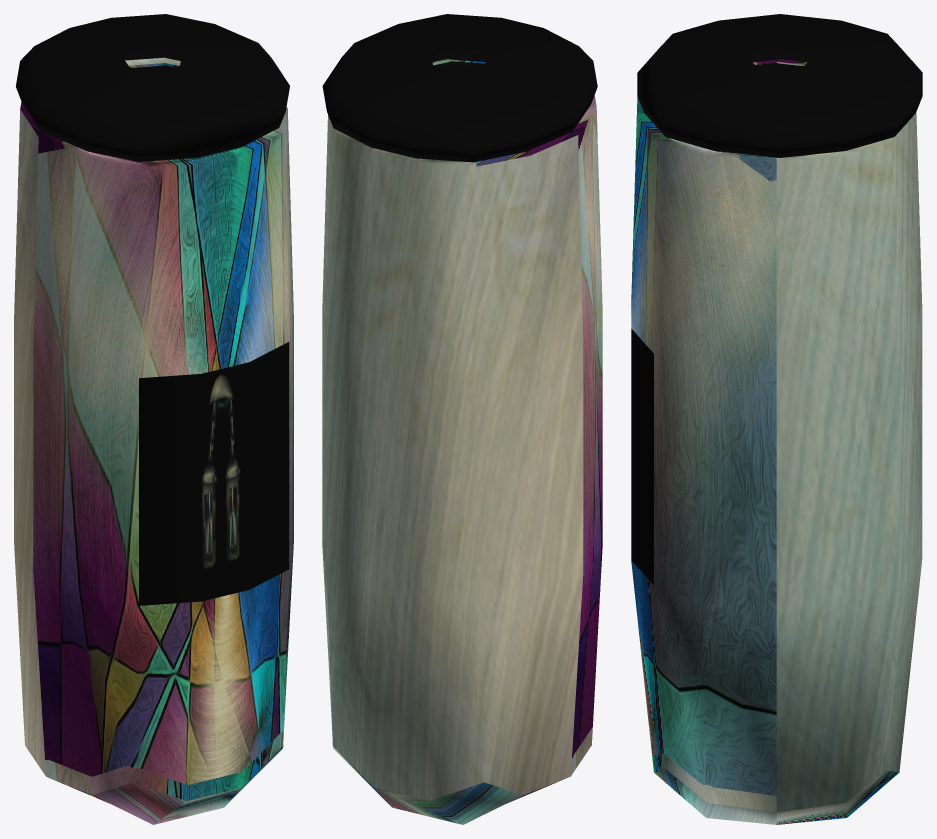
Rendered from thermis4.fbx.
3 renders of one model, left to right at view 1: azimuth 30°, elevation 25°; view 2: azimuth 150°, elevation 25°; view 3: azimuth 270°, elevation 25°, orthographic.
Parts seen in each view (by area): view 1: thermis1, thermis; view 2: thermis1, thermis; view 3: thermis1, thermis.
Boxes of the visible parts, x1=… form: thermis1: x1=14, y1=57, x2=293, y2=824; thermis: x1=16, y1=14, x2=289, y2=161; thermis1: x1=322, y1=59, x2=602, y2=824; thermis: x1=322, y1=14, x2=597, y2=162; thermis1: x1=631, y1=59, x2=922, y2=824; thermis: x1=637, y1=14, x2=922, y2=157.
Bounding box in the file's own units: 0.1976 × 0.5746 × 0.2033.
